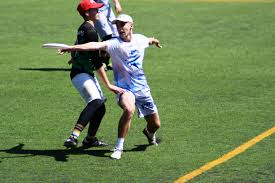disc: (41, 42, 67, 52)
